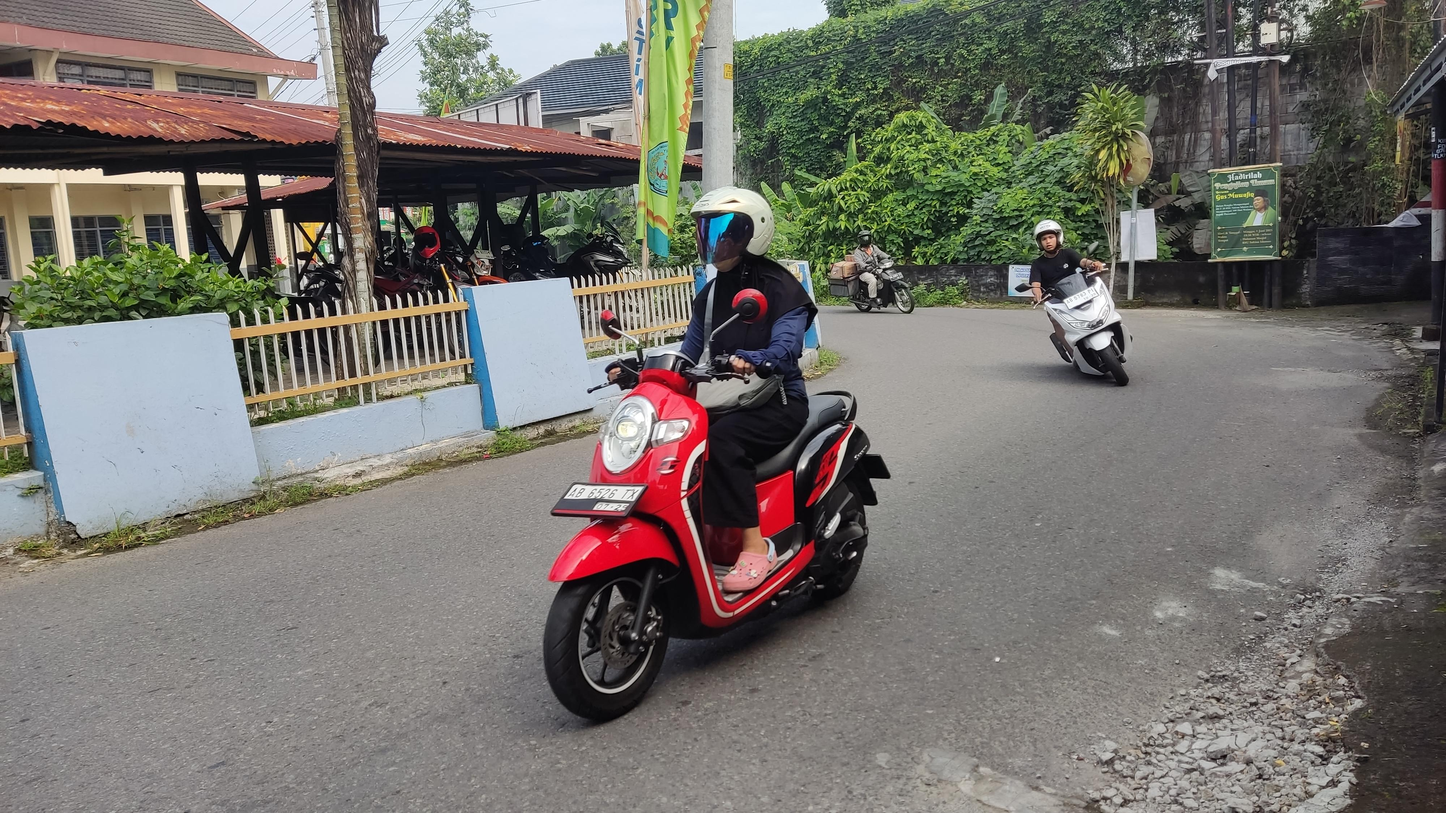helm: (691, 185, 777, 273), (1033, 218, 1067, 258)
riding: (541, 183, 894, 723), (1014, 217, 1135, 387)
